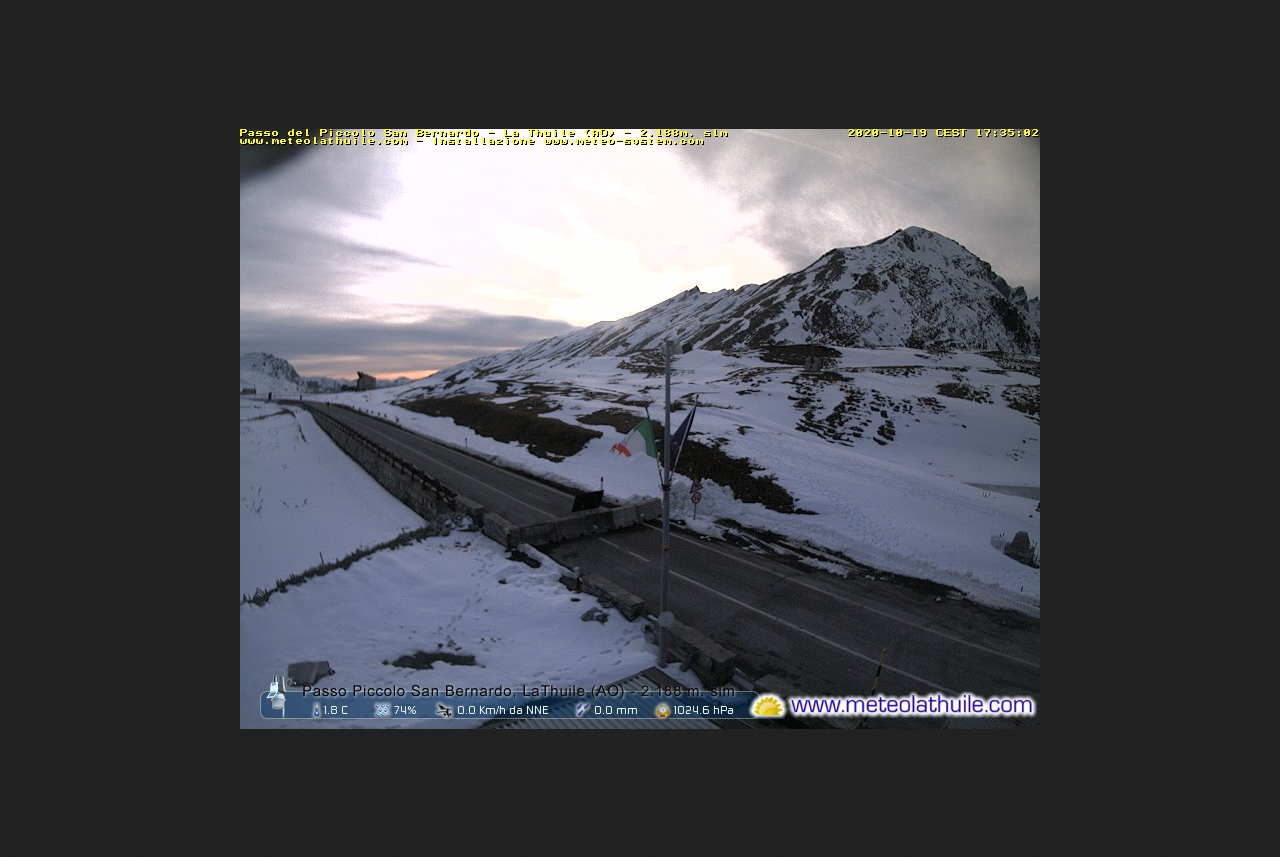maybe: (616, 417, 656, 462)
no: (670, 402, 703, 453)
